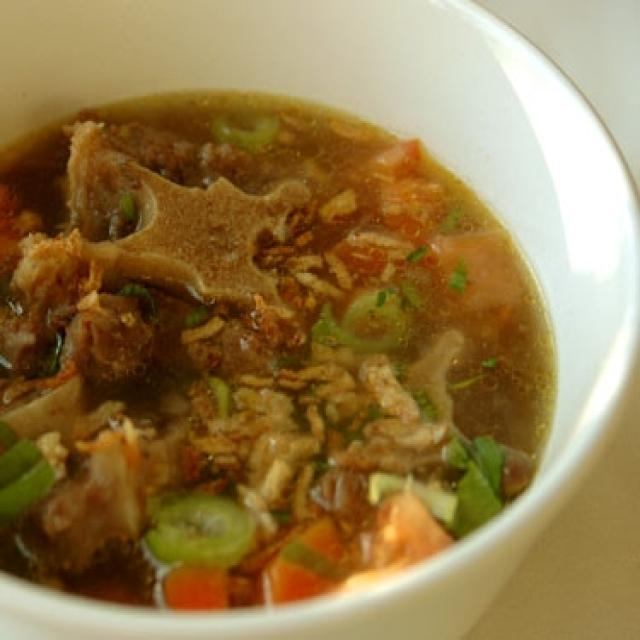汤锅炖物: (3, 23, 606, 621)
